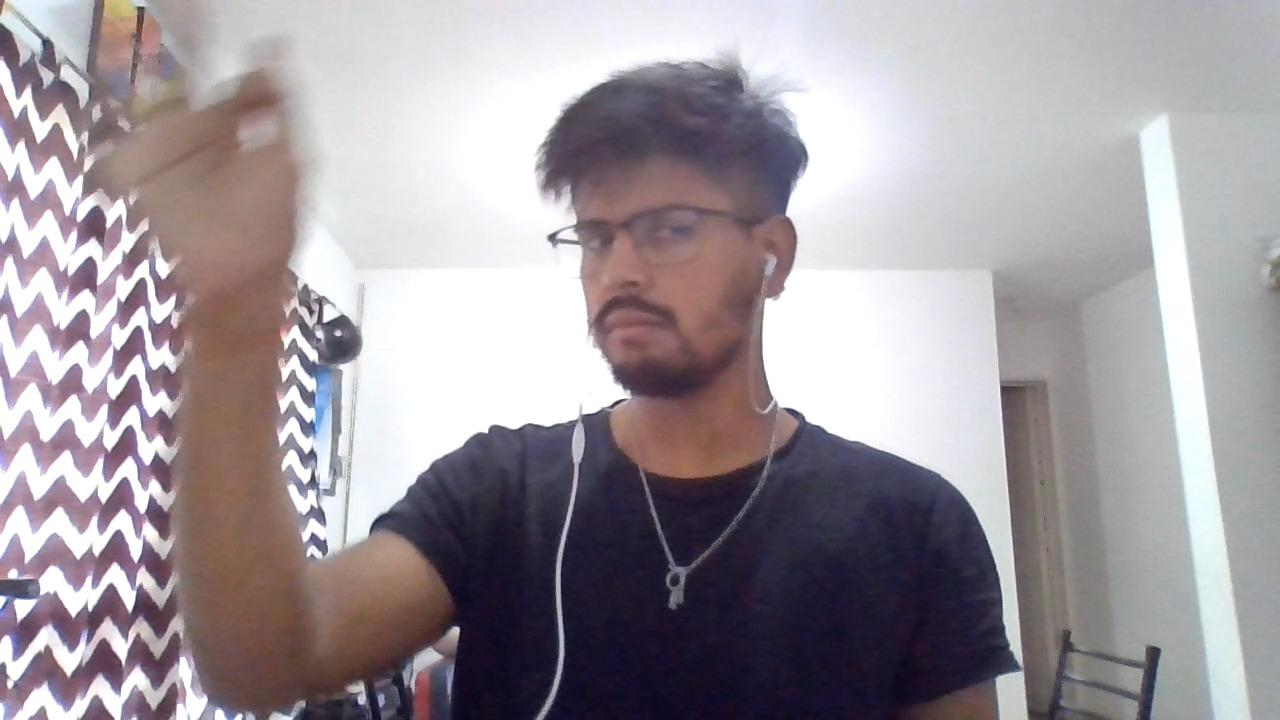Hospital: (64, 16, 1031, 656)
